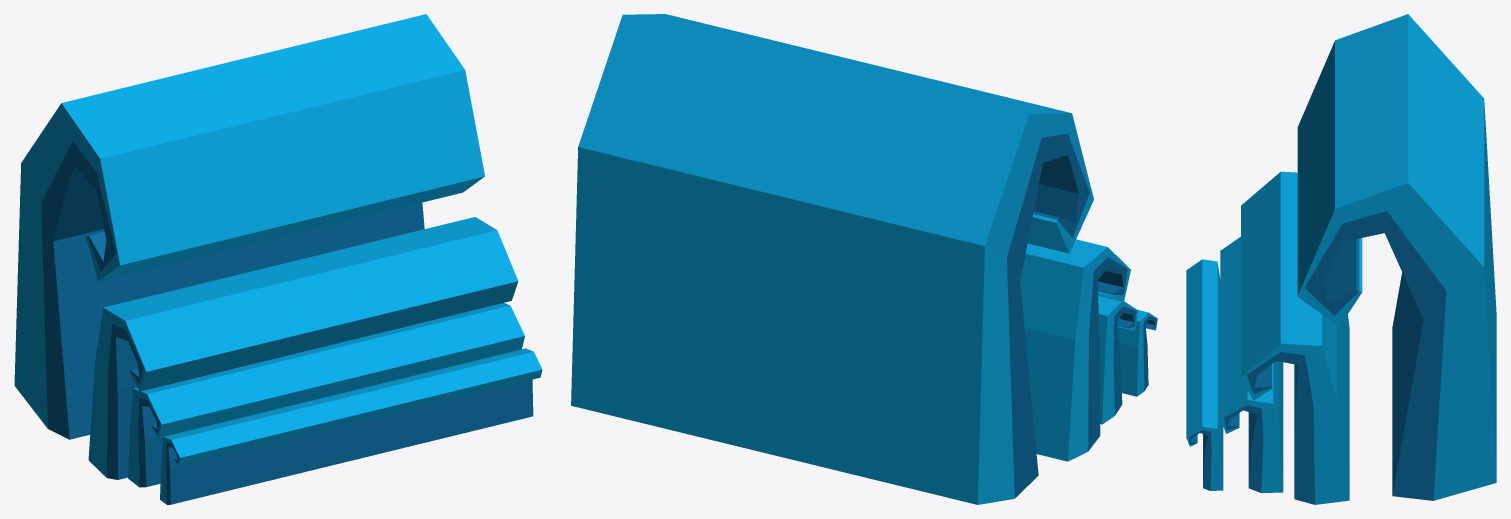
Rendered from Tsunami.fbx.
3 views of the same model, side by side, from view 1: azimuth 30°, elevation 25°; view 2: azimuth 150°, elevation 25°; view 3: azimuth 270°, elevation 25° (orthographic). The views are drawn at different scales.
Parts seen in each view (by area): view 1: Plane.020; view 2: Plane.020; view 3: Plane.020.
Part boxes in pixels (x1,y1,x2,y2): Plane.020: (14,14,542,504); Plane.020: (571,14,1157,504); Plane.020: (1186,14,1496,504).
Size of the model in its own units: 244 by 212 by 186.
